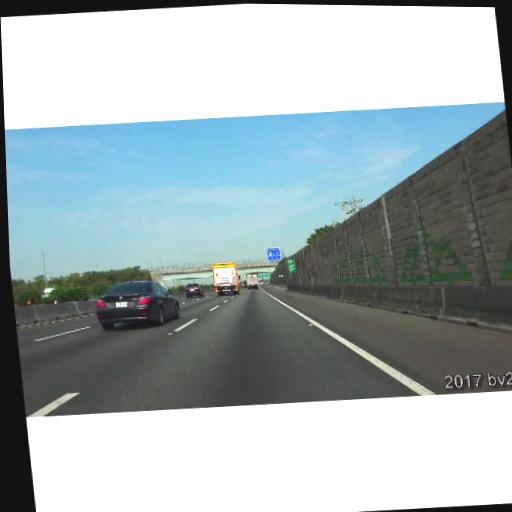Car: (92, 276, 182, 330), (212, 262, 241, 297), (184, 283, 205, 298), (246, 272, 260, 291)
